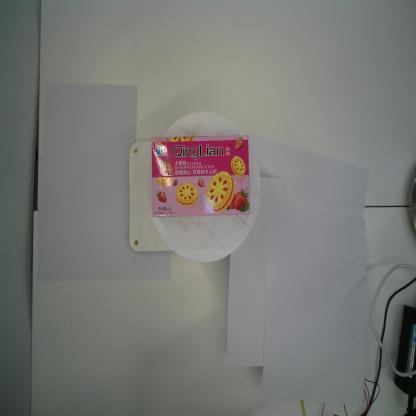Dessert: (150, 133, 252, 220)
